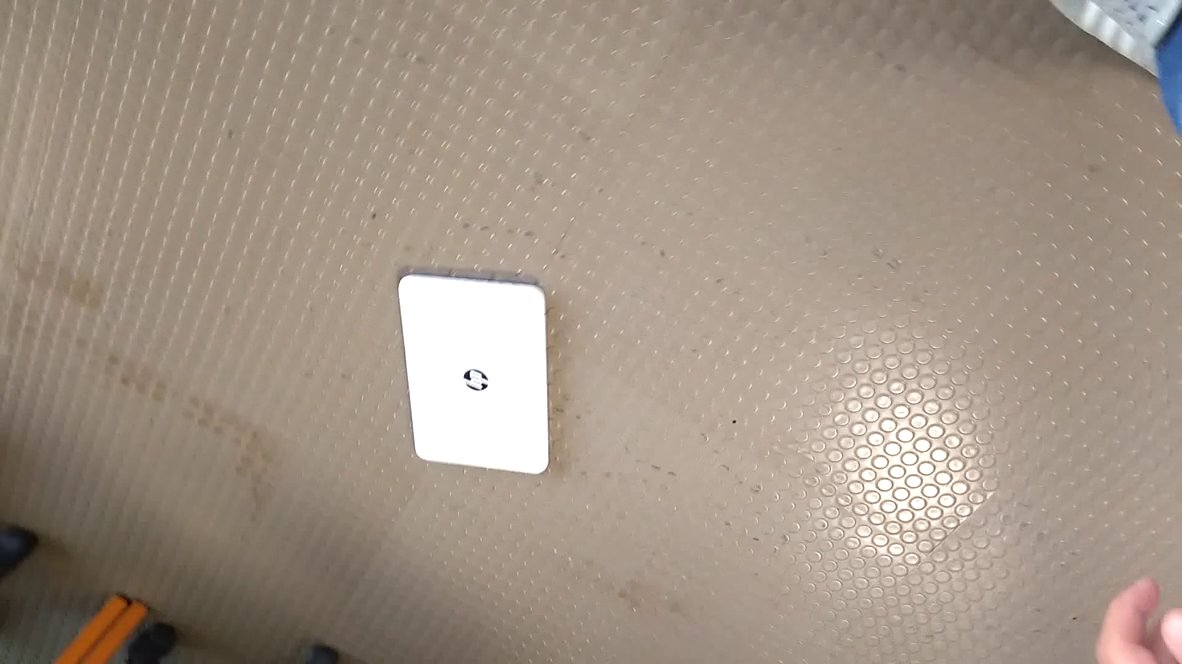laptop: (392, 254, 561, 496)
